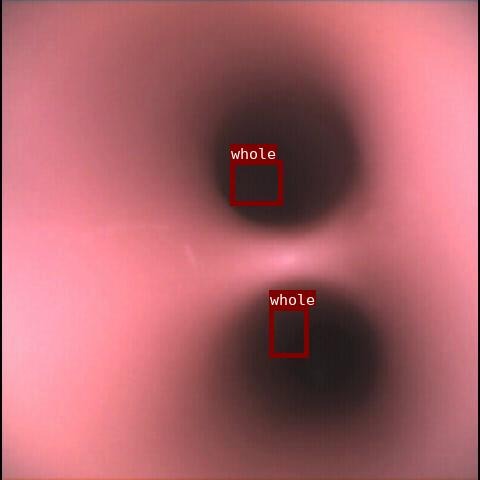whole: (230, 160, 282, 205), (269, 306, 308, 357)
